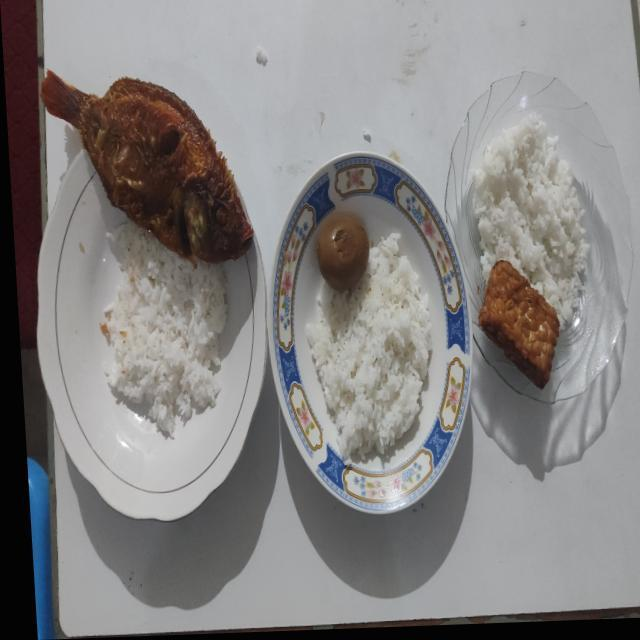ikan_mujair: (41, 71, 253, 266)
nasi_putih: (306, 235, 432, 458), (101, 219, 228, 436), (472, 114, 590, 328)
tempe_goreng: (478, 260, 560, 387)
